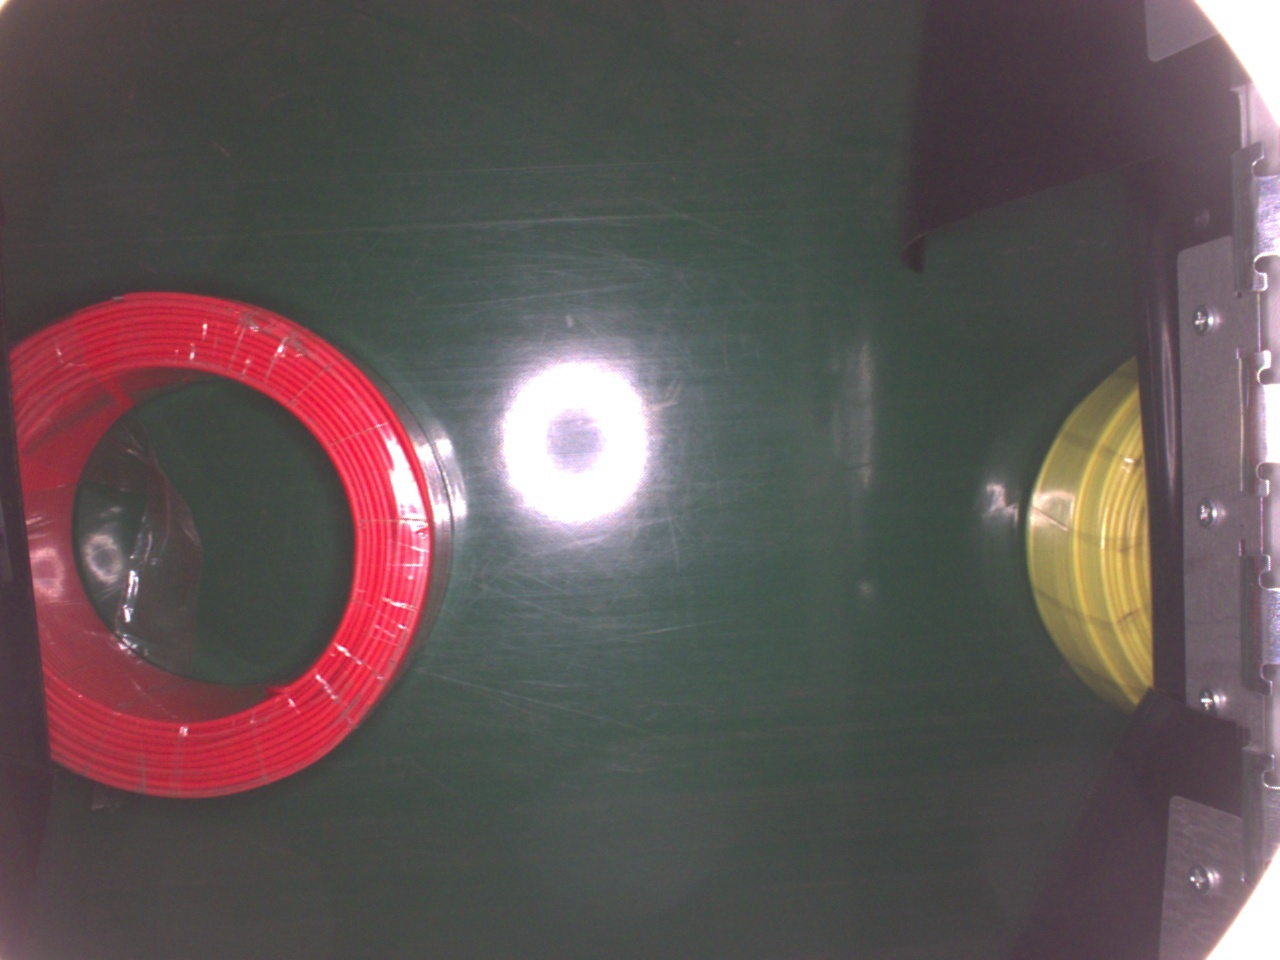red: (3, 289, 452, 810)
yellow: (1022, 350, 1156, 724)
